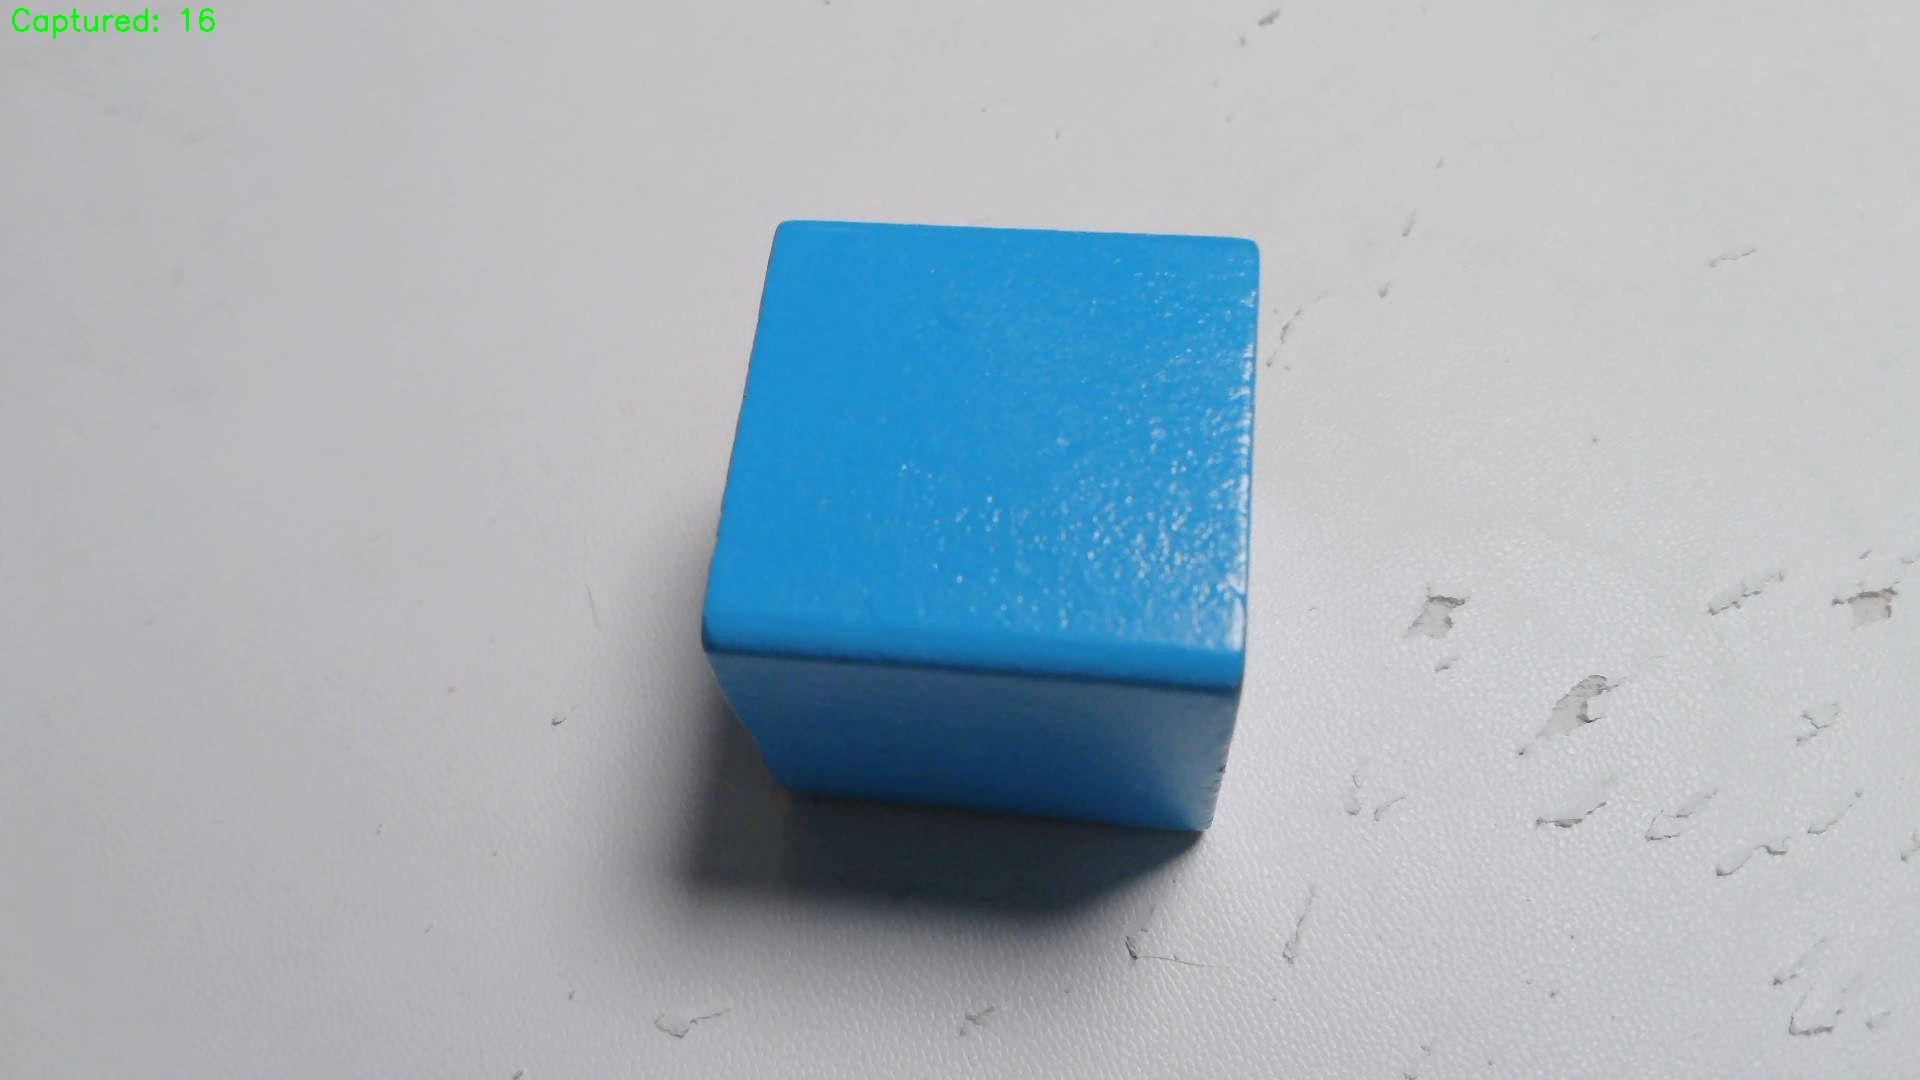blue: (688, 222, 1261, 847)
